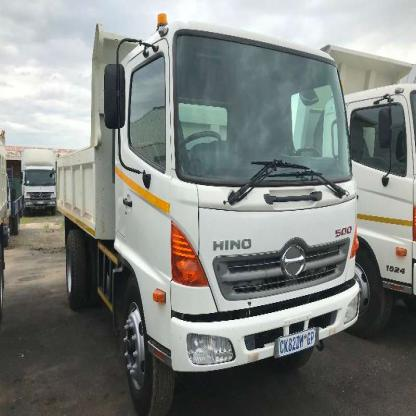dump_truck: (53, 10, 365, 415), (16, 142, 56, 214)
